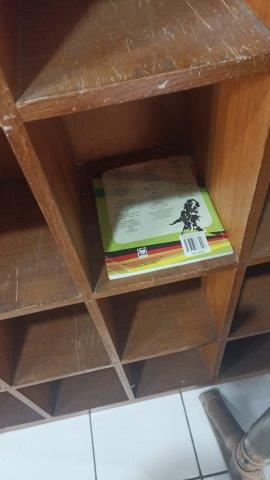kertas: (78, 144, 234, 281)
